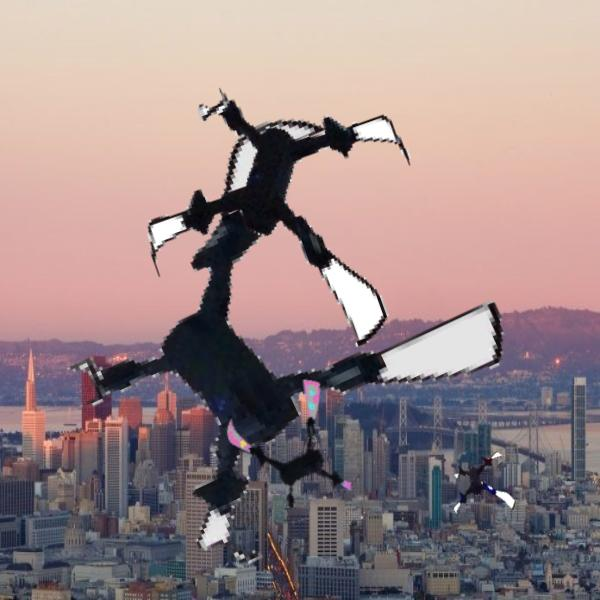drone: (60, 110, 496, 546), (135, 67, 442, 374), (220, 378, 362, 520), (445, 453, 526, 534)
